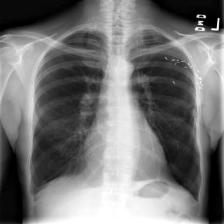normal: (26, 22, 204, 204)
